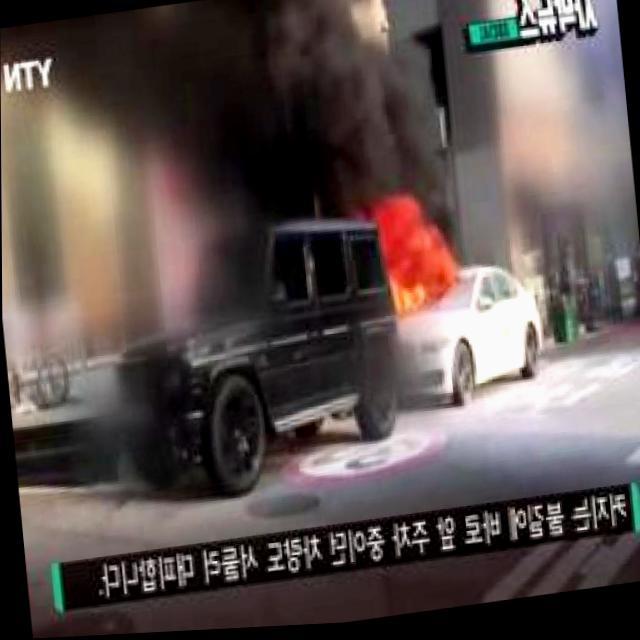helmet: (377, 194, 442, 314)
no_helmet: (240, 0, 464, 209)
